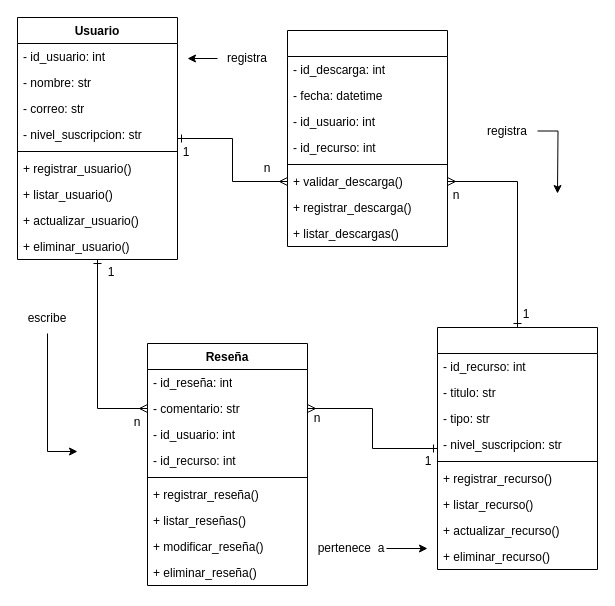
Image size: 615x606. Some labels were removed from this diagram. Each missing label, with the box of its shape:
Historial Descargas: (286, 30, 448, 246)
Recurso Digital: (436, 326, 598, 570)
